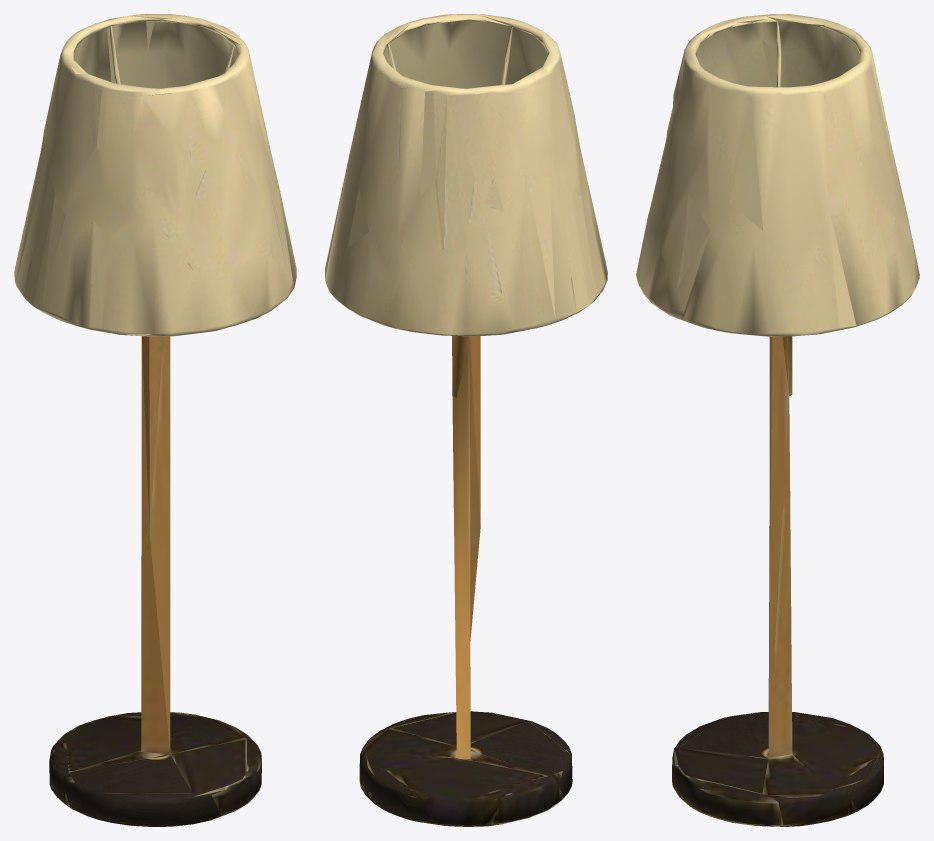
The model's file is floor_lamp.gltf.
The picture shows the model from 3 angles, left to right: view 1: azimuth 30°, elevation 25°; view 2: azimuth 150°, elevation 25°; view 3: azimuth 270°, elevation 25°; orthographic projection.
Parts seen in each view (by area): view 1: floor_lamp; view 2: floor_lamp; view 3: floor_lamp.
Part boxes in pixels (x1,y1,x2,y2): floor_lamp: (14, 14, 296, 826); floor_lamp: (325, 14, 607, 826); floor_lamp: (636, 14, 919, 826).
Bounding box in the file's own units: 0.8987 × 2.56 × 0.9.
1 material, 1 textured.
